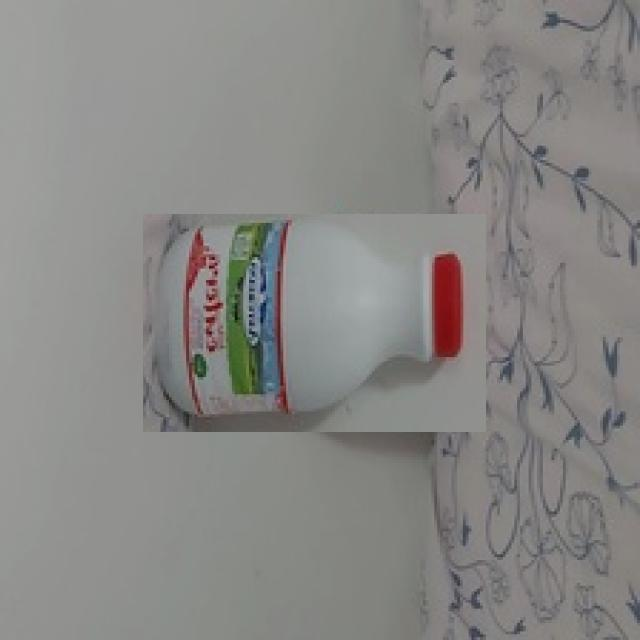bottle: (143, 214, 486, 432)
cap: (432, 252, 470, 363)
label: (176, 212, 292, 432)
